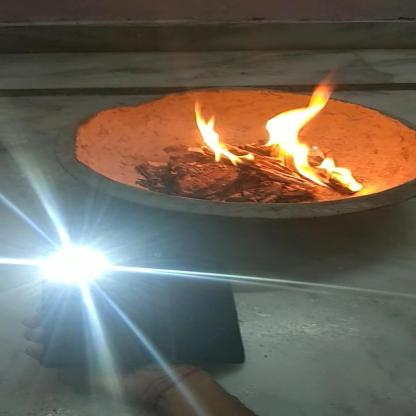fire: (183, 80, 368, 194)
